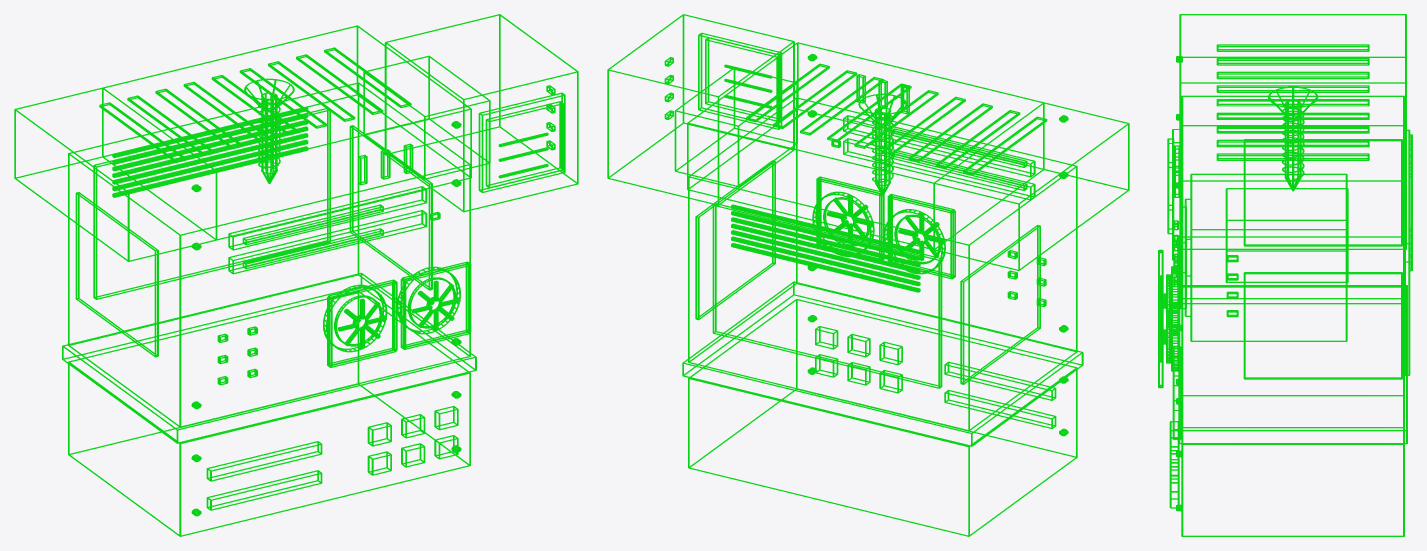
The model's file is asteroid-tracker-information.glb.
3 renders of one model, left to right at view 1: azimuth 30°, elevation 25°; view 2: azimuth 150°, elevation 25°; view 3: azimuth 270°, elevation 25°, orthographic. The views are drawn at different scales.
Visible parts, largest first — view 1: chassis technical wire, user-interface technical wire, cooling-fans technical wire, calibration-device technical wire, data-storage technical wire; view 2: chassis technical wire, user-interface technical wire, cooling-fans technical wire, calibration-device technical wire, data-storage technical wire; view 3: chassis technical wire, user-interface technical wire, cooling-fans technical wire, calibration-device technical wire, data-storage technical wire.
Boxes of the visible parts, x1=… form: chassis technical wire: x1=62, y1=25, x2=476, y2=536; user-interface technical wire: x1=363, y1=14, x2=578, y2=212; cooling-fans technical wire: x1=323, y1=261, x2=471, y2=367; calibration-device technical wire: x1=244, y1=78, x2=294, y2=183; data-storage technical wire: x1=14, y1=87, x2=217, y2=261; chassis technical wire: x1=682, y1=42, x2=1083, y2=536; user-interface technical wire: x1=607, y1=14, x2=797, y2=205; cooling-fans technical wire: x1=812, y1=176, x2=955, y2=279; calibration-device technical wire: x1=858, y1=93, x2=907, y2=195; data-storage technical wire: x1=934, y1=102, x2=1129, y2=270; chassis technical wire: x1=1167, y1=44, x2=1412, y2=536; user-interface technical wire: x1=1177, y1=173, x2=1348, y2=341; cooling-fans technical wire: x1=1158, y1=249, x2=1179, y2=388; calibration-device technical wire: x1=1268, y1=86, x2=1318, y2=191; data-storage technical wire: x1=1179, y1=14, x2=1406, y2=125.
Size of the model in its own units: 2.6 by 2.02 by 1.26.
